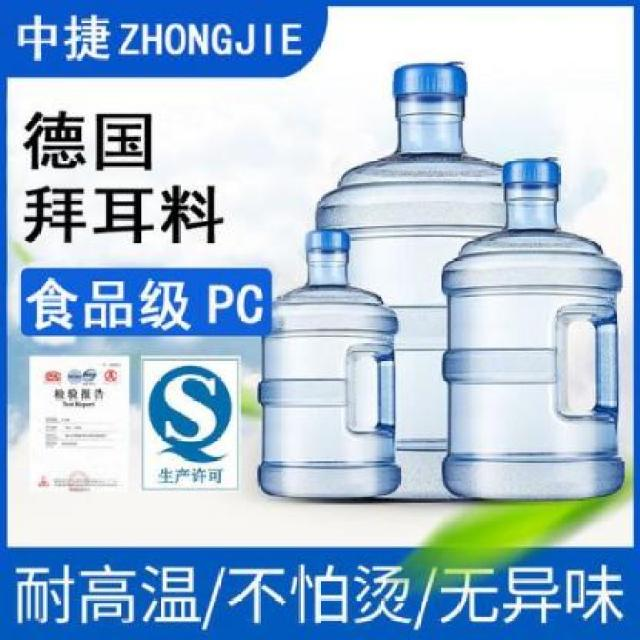coolerbottle: (435, 153, 628, 504)
